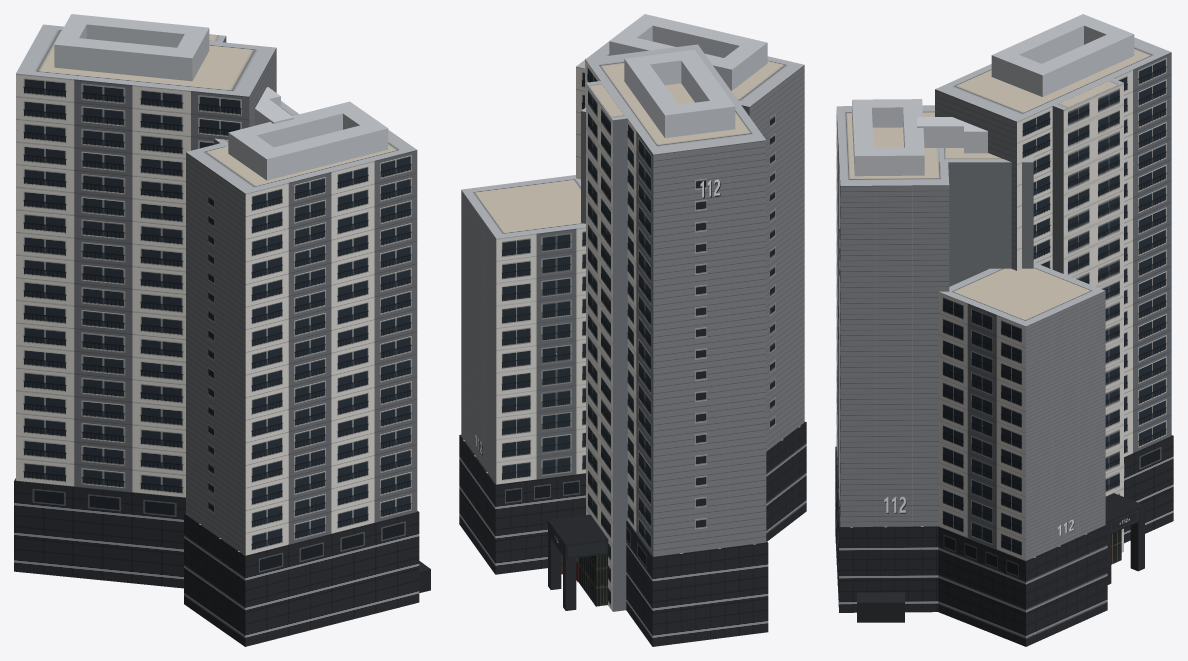
The model's file is 3D_place_112.glb.
3 views of the same model, side by side, from view 1: azimuth 30°, elevation 25°; view 2: azimuth 150°, elevation 25°; view 3: azimuth 270°, elevation 25° (orthographic). The views are drawn at different scales.
Parts seen in each view (by area): view 1: KumhoParkHills_112; view 2: KumhoParkHills_112, Dong112_PhotoMatched_Entrance; view 3: KumhoParkHills_112, Dong112_PhotoMatched_Entrance.
Boxes of the visible parts, bbox=[...] form: KumhoParkHills_112: bbox=[14, 14, 430, 646]; KumhoParkHills_112: bbox=[459, 14, 806, 646]; Dong112_PhotoMatched_Entrance: bbox=[548, 514, 608, 610]; KumhoParkHills_112: bbox=[835, 14, 1173, 646]; Dong112_PhotoMatched_Entrance: bbox=[1105, 493, 1144, 584].
Bounding box in the file's own units: 40.87 × 58.7 × 36.7.
37 materials, 19 textured.
